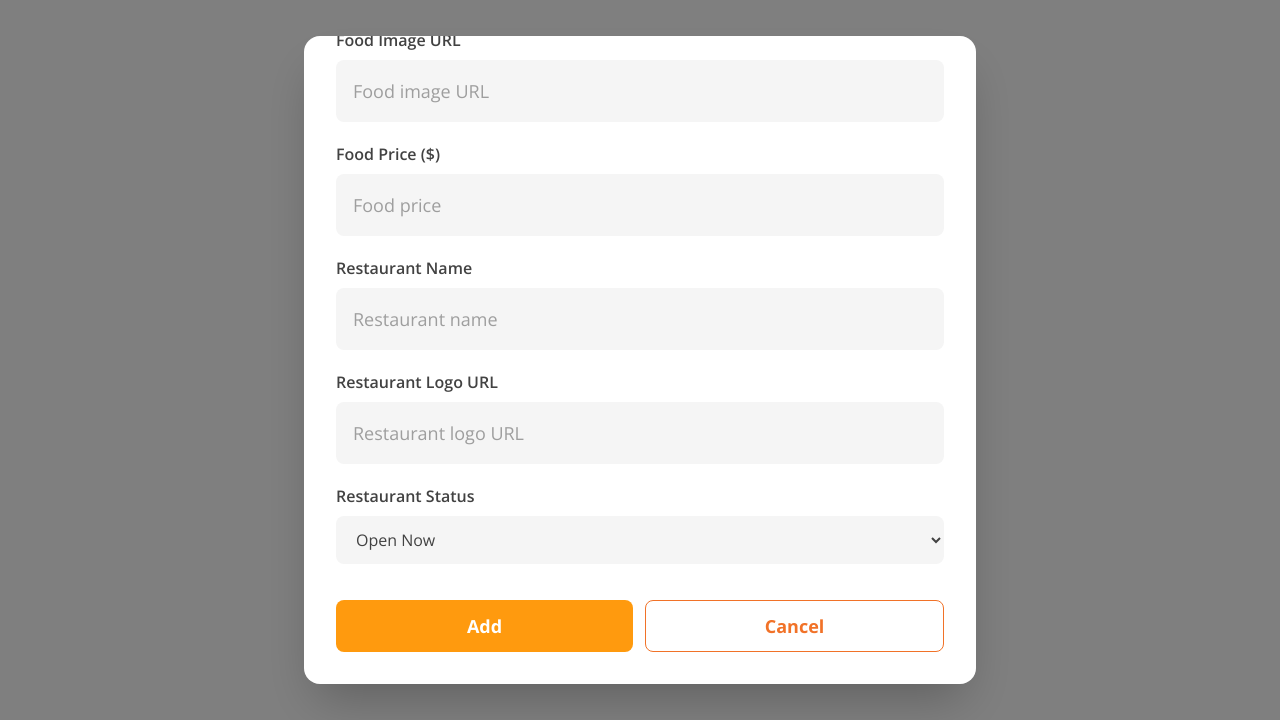
Test case: AddEditFoodModal - User Interactions › should display validation errors when submitting empty form
(page scrolled)
# Click the Add button without filling the form (no food prop means Add mode)
Click the button "Add" at (484, 626), box [336,600,633,652]
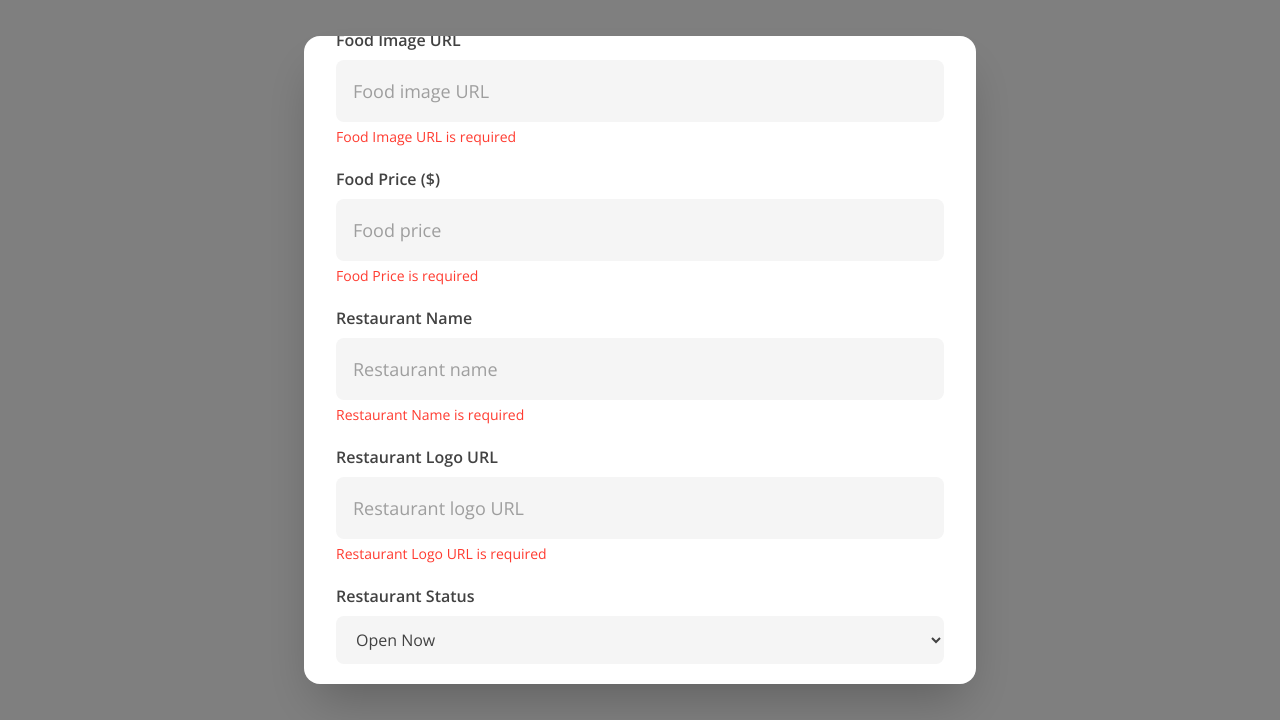
Expected: the text "Food Image URL is required" is shown, [336,127,516,146]
Expected: the text "Restaurant Name is required" is shown, [336,405,524,424]
Expected: the text "Restaurant Logo URL is required" is shown, [336,544,547,563]
